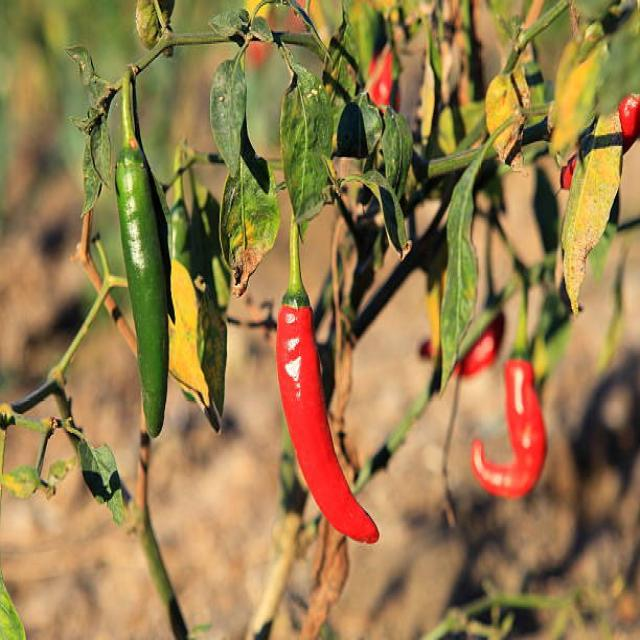Ripe: (275, 276, 380, 546)
Unripe: (114, 125, 175, 441)
